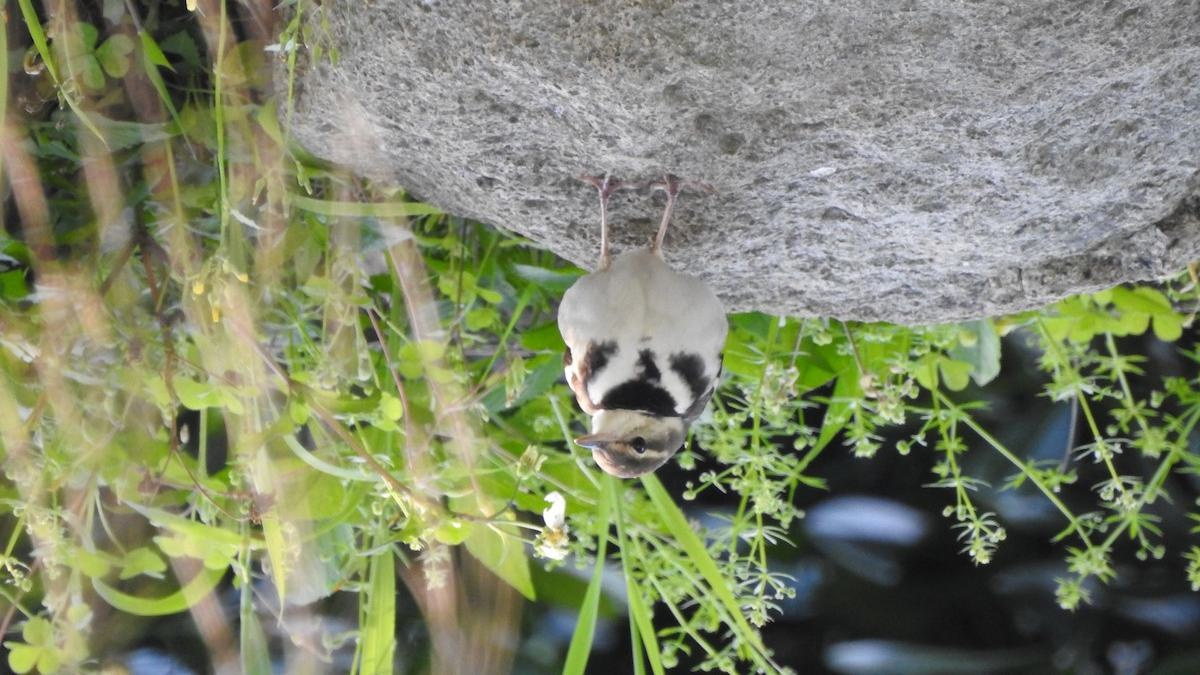wagtail: (545, 203, 726, 474)
